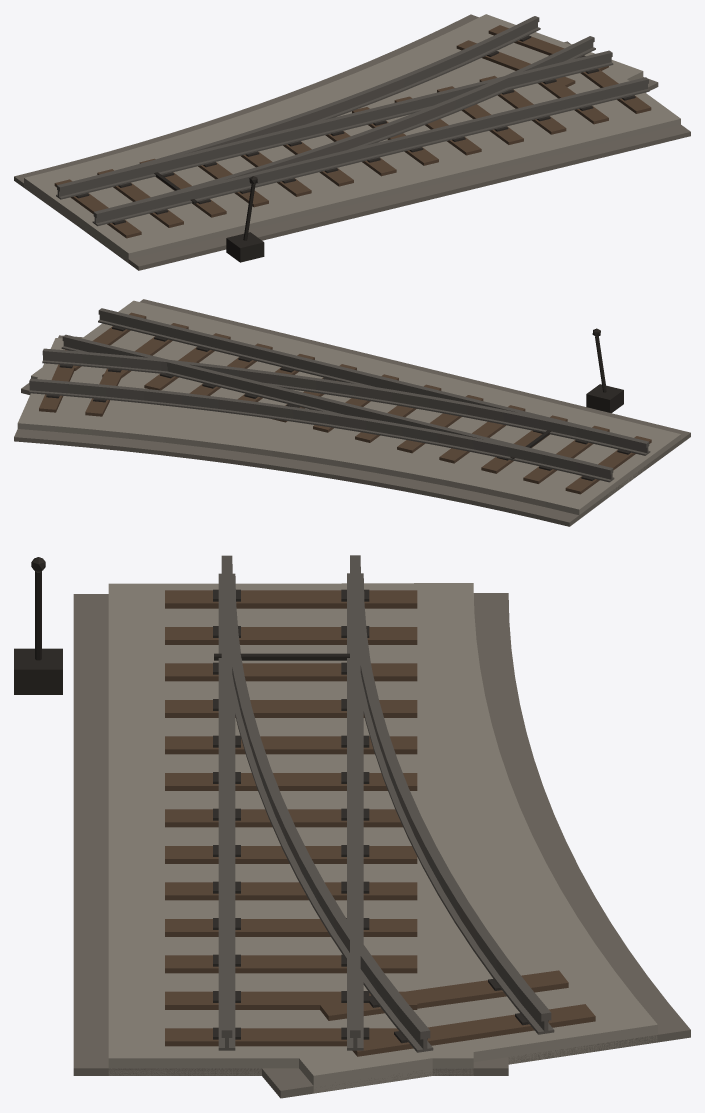
File: rieles-riel-desvio-izq.glb
The picture shows the model from 3 angles, top to bottom: view 1: azimuth 30°, elevation 25°; view 2: azimuth 150°, elevation 25°; view 3: azimuth 270°, elevation 25°; orthographic projection. The views are drawn at different scales.
Visible parts, largest first — view 1: riel_desvio_izq_Balasto, riel_desvio_izq_Riel, riel_desvio_izq_BalastoHombro, riel_desvio_izq_Durmiente, riel_desvio_izq_Hierro, riel_desvio_izq_PlacaApoyo; view 2: riel_desvio_izq_Balasto, riel_desvio_izq_Riel, riel_desvio_izq_BalastoHombro, riel_desvio_izq_Durmiente, riel_desvio_izq_Hierro, riel_desvio_izq_PlacaApoyo; view 3: riel_desvio_izq_Balasto, riel_desvio_izq_Durmiente, riel_desvio_izq_BalastoHombro, riel_desvio_izq_Riel, riel_desvio_izq_Hierro, riel_desvio_izq_PlacaApoyo.
Part boxes in pixels (x1,y1,x2,y2): riel_desvio_izq_Balasto: (24,14,680,263); riel_desvio_izq_Riel: (56,16,649,226); riel_desvio_izq_BalastoHombro: (14,14,690,270); riel_desvio_izq_Durmiente: (54,25,651,238); riel_desvio_izq_Hierro: (154,172,264,262); riel_desvio_izq_PlacaApoyo: (75,35,635,224); riel_desvio_izq_Balasto: (17,300,680,515); riel_desvio_izq_Riel: (29,308,650,482); riel_desvio_izq_BalastoHombro: (14,299,690,526); riel_desvio_izq_Durmiente: (39,312,651,494); riel_desvio_izq_Hierro: (510,328,623,458); riel_desvio_izq_PlacaApoyo: (46,326,630,480); riel_desvio_izq_Balasto: (108,583,657,1093); riel_desvio_izq_Durmiente: (165,590,595,1056); riel_desvio_izq_BalastoHombro: (73,593,690,1098); riel_desvio_izq_Riel: (218,555,554,1052); riel_desvio_izq_Hierro: (14,557,349,694); riel_desvio_izq_PlacaApoyo: (213,589,548,1043).
Bounding box in the file's own units: 8.4 × 1.06 × 4.82.
